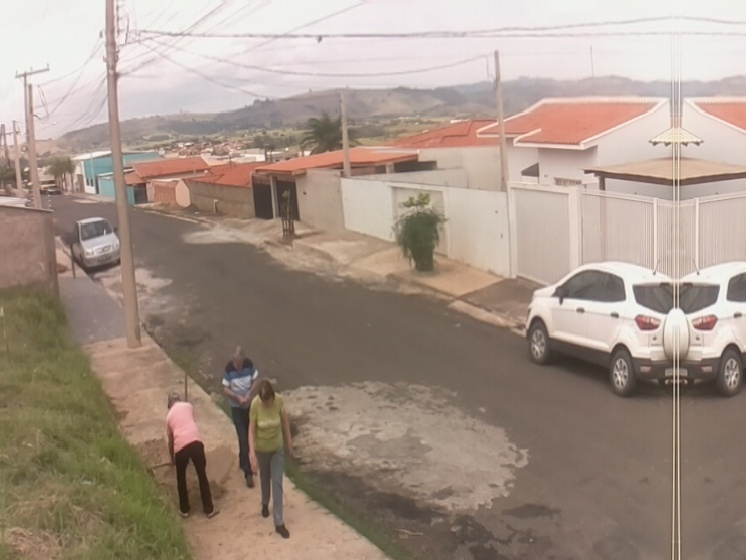person: (246, 379, 295, 540), (166, 391, 219, 520), (222, 346, 258, 488)
